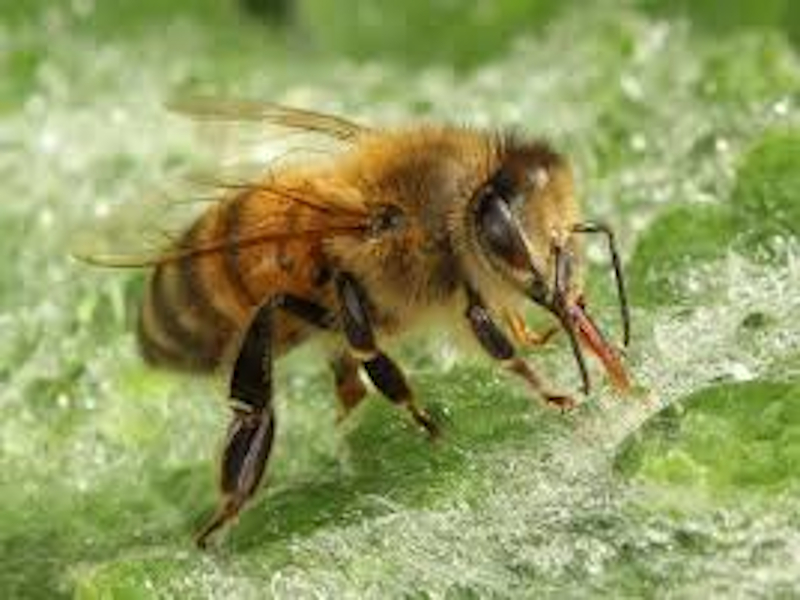abeja: (74, 67, 641, 512)
